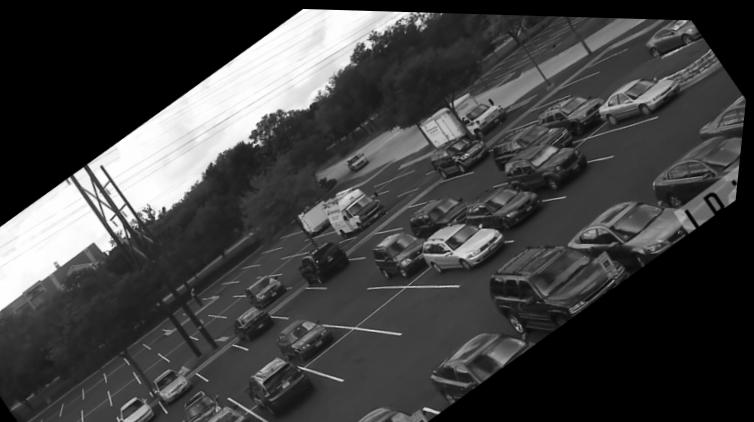empty: (372, 281, 465, 326), (315, 327, 395, 371), (579, 117, 658, 155), (202, 340, 258, 382), (327, 284, 392, 320), (565, 51, 612, 83), (420, 171, 472, 199), (382, 199, 430, 228), (234, 358, 273, 392), (281, 288, 329, 313), (543, 76, 587, 102), (118, 375, 151, 407), (355, 225, 395, 251), (512, 100, 552, 125), (371, 169, 413, 192), (168, 337, 207, 361), (145, 356, 178, 383), (198, 314, 236, 337), (471, 167, 508, 190), (92, 395, 123, 422), (141, 348, 171, 375), (186, 312, 221, 335), (91, 386, 118, 414), (115, 366, 143, 393), (278, 251, 313, 272), (129, 341, 160, 364), (163, 331, 194, 353), (303, 230, 338, 249), (223, 294, 253, 315), (211, 293, 243, 312), (148, 328, 177, 348), (112, 355, 135, 380), (262, 253, 292, 272), (284, 234, 315, 252), (234, 275, 265, 292), (91, 372, 114, 394), (274, 230, 303, 246), (207, 279, 240, 293), (288, 260, 309, 282), (233, 264, 264, 277), (73, 390, 91, 412), (68, 406, 90, 422), (255, 248, 282, 261), (226, 316, 244, 333), (97, 409, 120, 422), (52, 405, 68, 422)
occupied: (498, 243, 640, 328), (425, 326, 545, 395), (569, 199, 716, 255), (656, 130, 745, 196), (427, 218, 511, 274), (255, 354, 330, 414), (507, 138, 585, 192), (600, 73, 683, 121), (472, 184, 551, 226), (358, 387, 449, 422), (433, 125, 494, 177), (328, 185, 391, 234), (495, 119, 563, 163), (284, 317, 345, 360), (303, 239, 359, 285), (414, 193, 472, 236), (378, 229, 428, 277), (541, 92, 603, 130), (646, 16, 703, 54), (703, 88, 748, 130), (238, 305, 283, 340), (251, 272, 292, 307), (161, 368, 201, 403), (208, 399, 264, 422), (192, 390, 225, 422), (129, 396, 164, 422)
